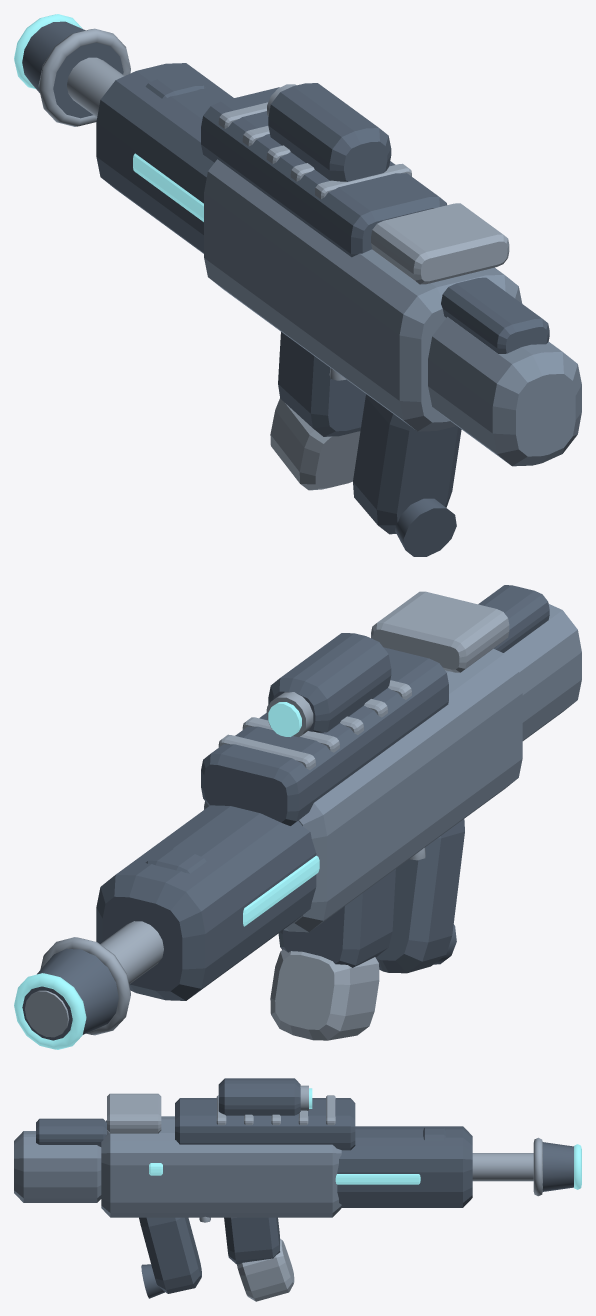
File: pulse.glb
3 renders of one model, top to bottom at view 1: azimuth 30°, elevation 25°; view 2: azimuth 150°, elevation 25°; view 3: azimuth 270°, elevation 25°, orthographic. The views are drawn at different scales.
Parts seen in each view (by area): view 1: pulse; view 2: pulse; view 3: pulse.
Part boxes in pixels (x1,y1,x2,y2): pulse: (14, 14, 581, 556); pulse: (14, 585, 581, 1049); pulse: (14, 1078, 581, 1301).
Size of the model in its own units: 0.1553 by 0.435 by 1.04.
